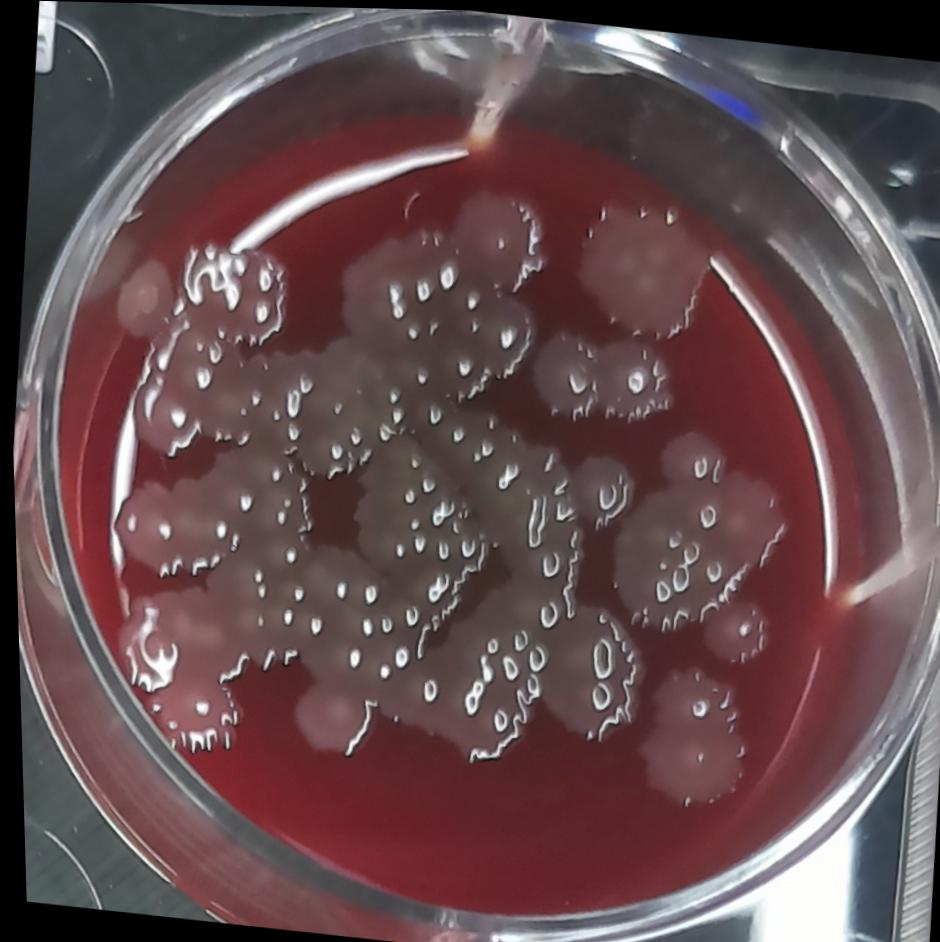vproteolyticus: (596, 450, 793, 642), (559, 192, 744, 342), (340, 440, 493, 594), (618, 659, 760, 814), (328, 212, 474, 344), (530, 591, 649, 746), (287, 328, 406, 482), (435, 172, 556, 295), (170, 229, 296, 346), (193, 435, 321, 539), (137, 670, 244, 760), (459, 279, 548, 382), (588, 327, 679, 424), (437, 681, 532, 771), (105, 473, 186, 577), (276, 679, 376, 760), (104, 249, 188, 345), (519, 317, 597, 419), (123, 367, 204, 462), (560, 445, 642, 531), (691, 588, 775, 666), (648, 418, 731, 492)
